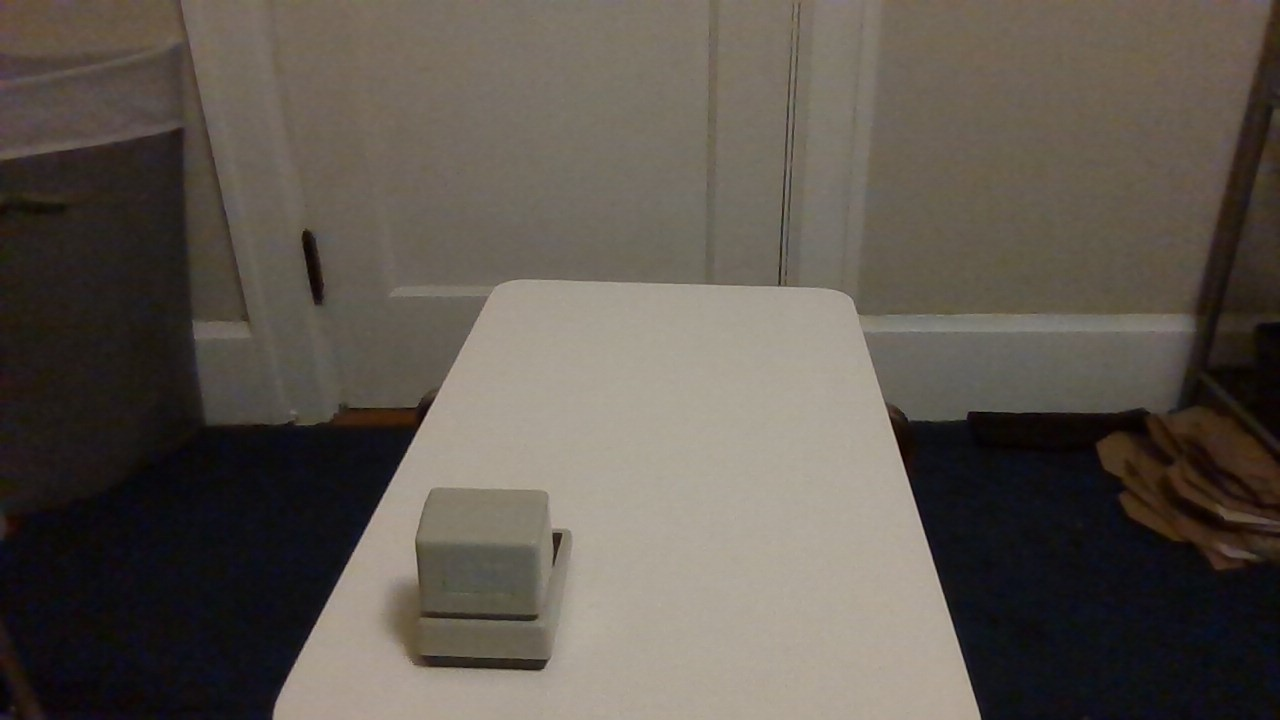Toy: (383, 461, 605, 689)
